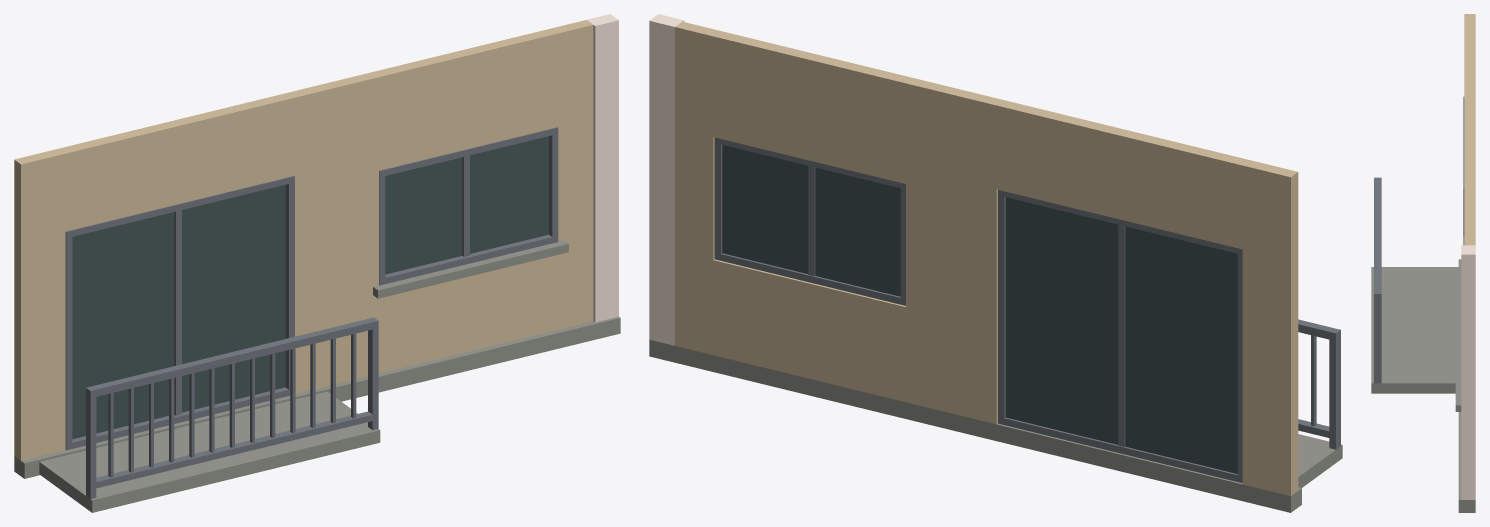
Rendered from mid-w1.fbx.
3 views of the same model, side by side, from view 1: azimuth 30°, elevation 25°; view 2: azimuth 150°, elevation 25°; view 3: azimuth 270°, elevation 25° (orthographic). The views are drawn at different scales.
Parts seen in each view (by area): view 1: a2001_400_mid-w1; view 2: a2001_400_mid-w1; view 3: a2001_400_mid-w1.
Boxes of the visible parts, x1=… form: a2001_400_mid-w1: x1=14, y1=14, x2=620, y2=512; a2001_400_mid-w1: x1=649, y1=14, x2=1342, y2=512; a2001_400_mid-w1: x1=1371, y1=14, x2=1475, y2=512.
Size of the model in its own units: 6 by 3 by 1.1.
